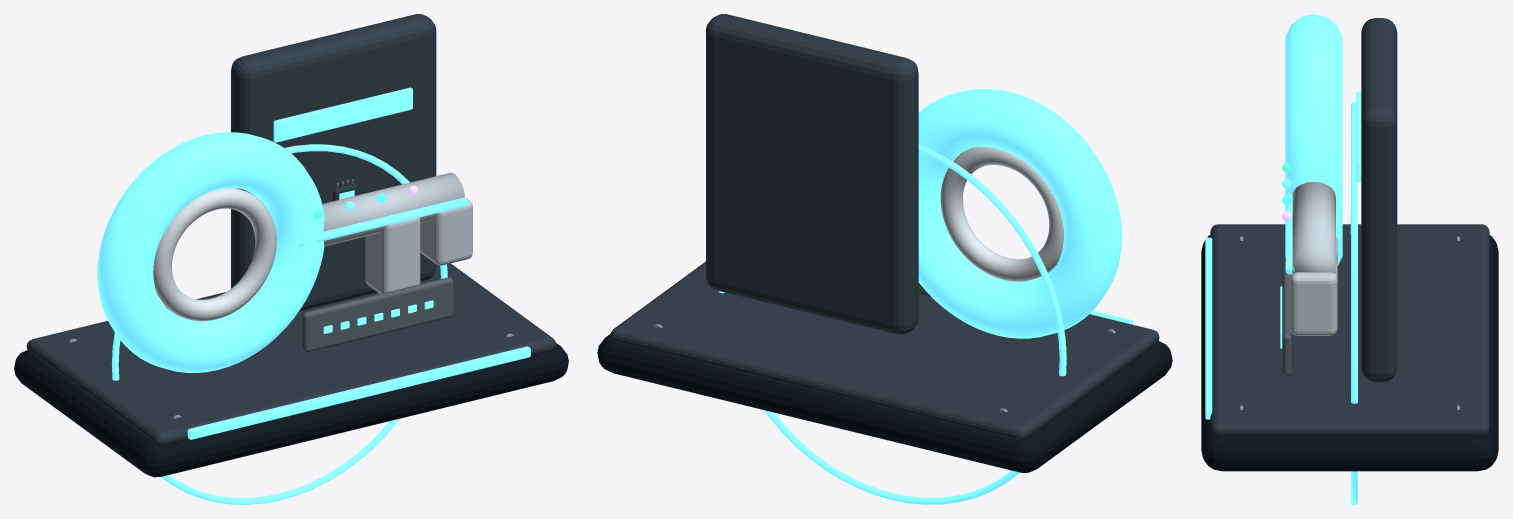
File: Access_Key_EDR.glb
3 renders of one model, left to right at view 1: azimuth 30°, elevation 25°; view 2: azimuth 150°, elevation 25°; view 3: azimuth 270°, elevation 25°, orthographic. The views are drawn at different scales.
Visible parts, largest first — view 1: Access_Key_EDR_Base1, Access_Key_EDR_Ring, Access_Key_EDR_TokenCard, Access_Key_EDR_Base0, Access_Key_EDR_RingInner, Access_Key_EDR_IDPlate, Access_Key_EDR_Shaft, Access_Key_EDR_FrontGlow, Access_Key_EDR_ToothA, Access_Key_EDR_AccessHalo, Access_Key_EDR_TokenStrip, Access_Key_EDR_ToothB (+1 smaller); view 2: Access_Key_EDR_TokenCard, Access_Key_EDR_Base1, Access_Key_EDR_Ring, Access_Key_EDR_Base0, Access_Key_EDR_RingInner, Access_Key_EDR_AccessHalo; view 3: Access_Key_EDR_Base1, Access_Key_EDR_Base0, Access_Key_EDR_TokenCard, Access_Key_EDR_Ring, Access_Key_EDR_Shaft, Access_Key_EDR_ToothB, Access_Key_EDR_AccessHalo, Access_Key_EDR_FrontGlow, Access_Key_EDR_IDPlate, Access_Key_EDR_ShaftGlow, Access_Key_EDR_TokenStrip.
Part boxes in pixels (x1,y1,x2,y2): Access_Key_EDR_Base1: [26, 263, 556, 445]; Access_Key_EDR_Ring: [97, 132, 324, 372]; Access_Key_EDR_TokenCard: [231, 14, 436, 311]; Access_Key_EDR_Base0: [14, 343, 568, 477]; Access_Key_EDR_RingInner: [153, 188, 276, 321]; Access_Key_EDR_IDPlate: [302, 277, 453, 352]; Access_Key_EDR_Shaft: [322, 172, 464, 246]; Access_Key_EDR_FrontGlow: [187, 346, 530, 439]; Access_Key_EDR_ToothA: [365, 217, 420, 293]; Access_Key_EDR_AccessHalo: [111, 144, 447, 504]; Access_Key_EDR_TokenStrip: [273, 87, 412, 142]; Access_Key_EDR_ToothB: [420, 199, 472, 265]; Access_Key_EDR_TokenCard: [706, 14, 918, 334]; Access_Key_EDR_Base1: [610, 261, 1159, 440]; Access_Key_EDR_Ring: [918, 89, 1121, 338]; Access_Key_EDR_Base0: [597, 334, 1172, 472]; Access_Key_EDR_RingInner: [940, 147, 1063, 281]; Access_Key_EDR_AccessHalo: [718, 144, 1066, 504]; Access_Key_EDR_Base1: [1210, 224, 1489, 435]; Access_Key_EDR_Base0: [1201, 235, 1498, 471]; Access_Key_EDR_TokenCard: [1361, 18, 1397, 382]; Access_Key_EDR_Ring: [1285, 14, 1342, 265]; Access_Key_EDR_Shaft: [1292, 182, 1335, 273]; Access_Key_EDR_ToothB: [1290, 264, 1337, 335]; Access_Key_EDR_AccessHalo: [1351, 102, 1357, 504]; Access_Key_EDR_FrontGlow: [1205, 237, 1212, 419]; Access_Key_EDR_IDPlate: [1282, 261, 1291, 375]; Access_Key_EDR_ShaftGlow: [1285, 191, 1294, 274]; Access_Key_EDR_TokenStrip: [1356, 91, 1361, 182].
Bounding box in the file's own units: 2.28 × 2.24 × 1.32.
